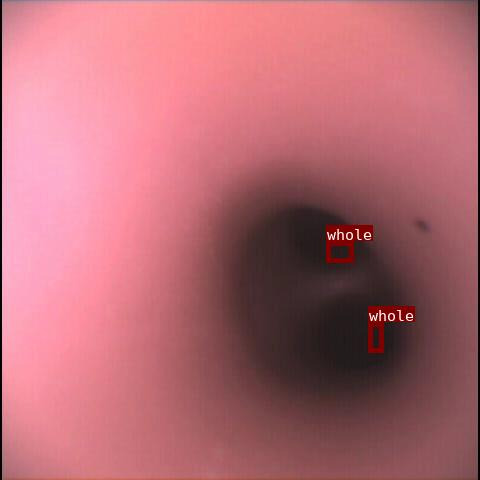whole: (326, 241, 353, 262), (368, 322, 383, 352)
